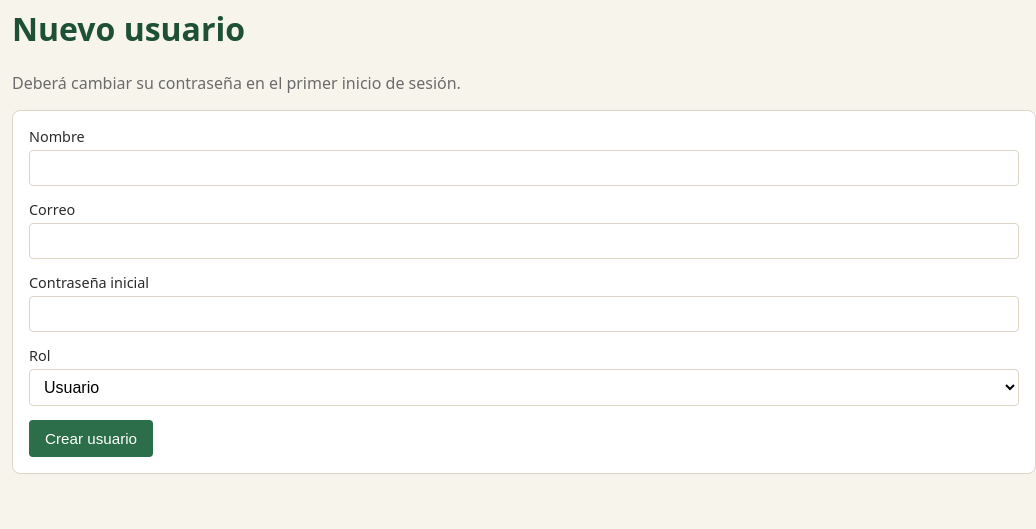
Alta de usuario (US1) › muestra errores del API en la página
Type "Ana" into the field labelled "Nombre" at (524, 168), box top-left (29, 150), bottom-right (1019, 186)
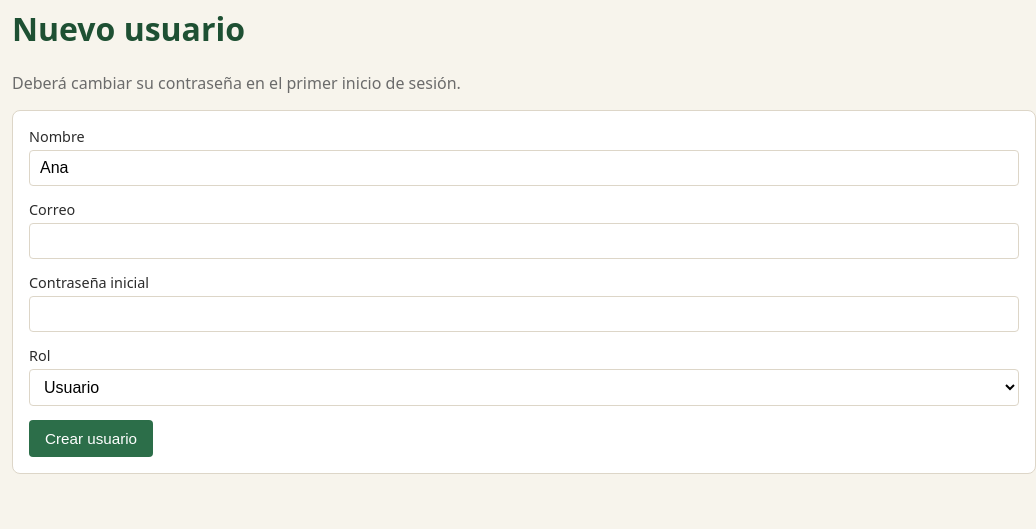
Type "ana@example.com" into the field labelled "Correo" at (524, 241), box top-left (29, 223), bottom-right (1019, 259)
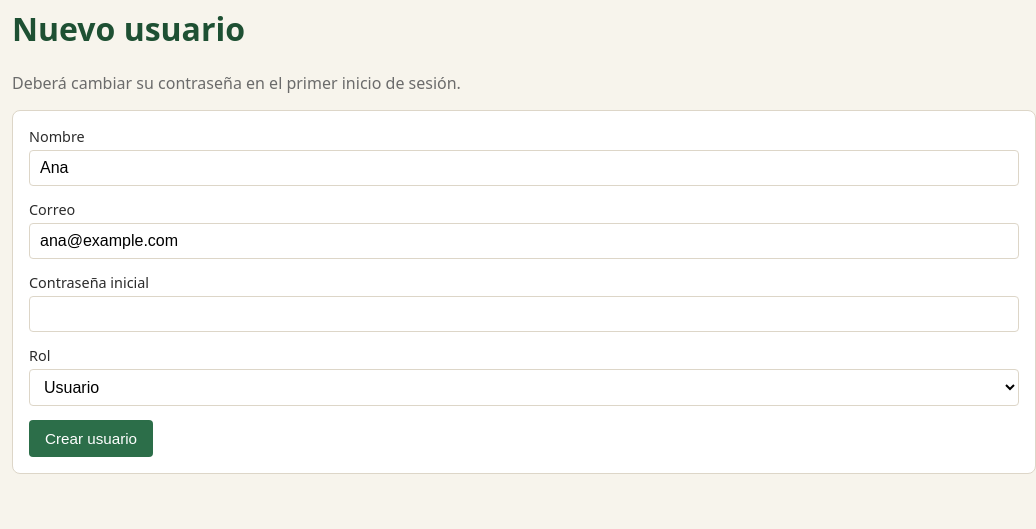
Type "clave-secreta-123" into the password field labelled "Contraseña inicial" at (524, 314), box top-left (29, 296), bottom-right (1019, 332)
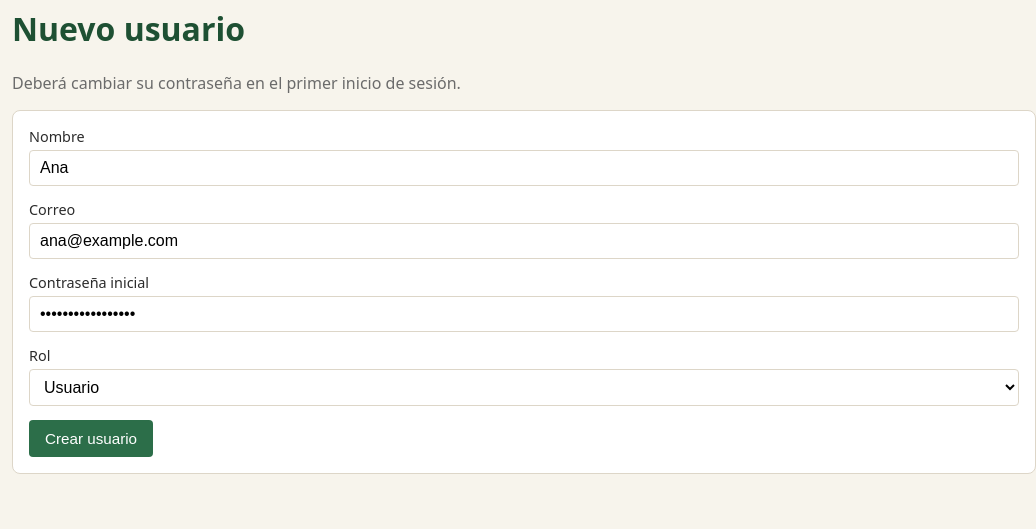
Click the button "Crear usuario" at (91, 438), box top-left (29, 420), bottom-right (153, 457)
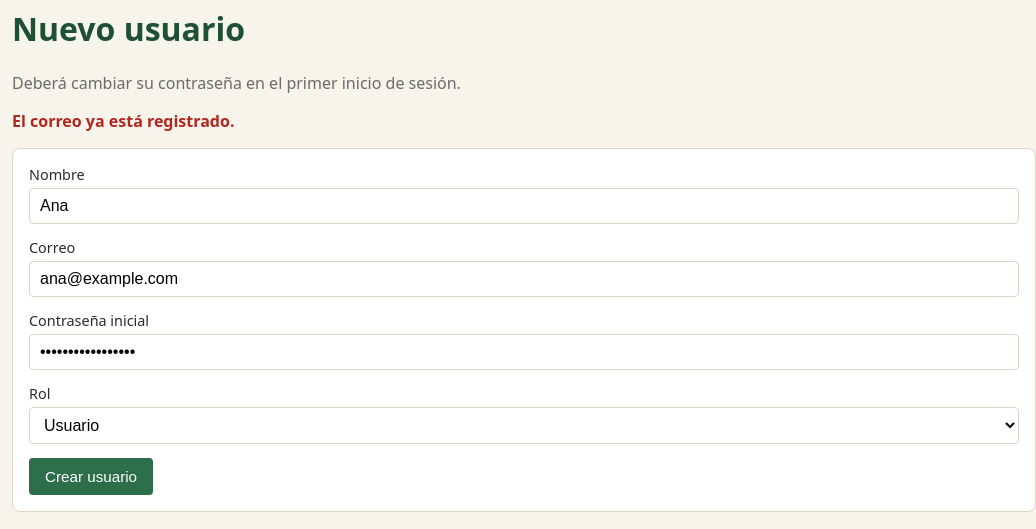
Check: the text "El correo ya está registrado." is shown, box top-left (12, 110), bottom-right (234, 132)
